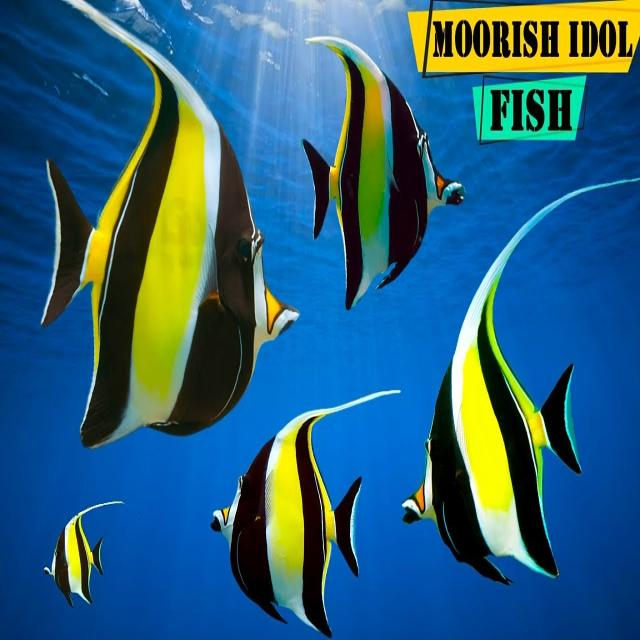MorishIdol: (40, 0, 300, 450), (400, 175, 638, 588), (209, 386, 401, 637), (300, 33, 466, 311), (42, 499, 121, 609)
